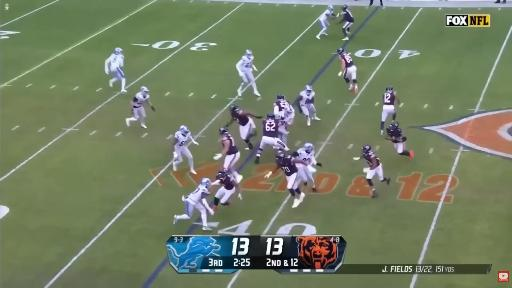Helmet: (216, 167, 227, 180), (390, 120, 401, 131), (178, 125, 189, 135), (304, 143, 314, 153), (139, 86, 150, 95), (277, 151, 286, 162), (202, 178, 211, 188), (218, 127, 230, 134), (245, 50, 254, 58), (363, 145, 371, 154), (306, 86, 315, 94), (230, 104, 238, 113), (384, 86, 394, 93), (337, 47, 346, 54), (283, 107, 292, 114), (276, 93, 285, 100), (114, 47, 122, 54), (327, 5, 334, 13), (342, 4, 348, 11), (267, 114, 275, 119)
Jersey: (185, 185, 209, 203), (279, 156, 297, 176), (222, 134, 238, 155), (236, 55, 254, 71), (263, 119, 278, 138), (231, 110, 249, 125), (216, 175, 234, 190), (107, 54, 123, 70), (363, 151, 380, 166), (297, 148, 314, 163), (274, 100, 290, 115), (133, 92, 149, 107), (339, 53, 354, 68), (175, 131, 190, 146), (392, 128, 406, 142), (300, 91, 314, 105), (284, 106, 294, 124), (383, 91, 395, 105), (387, 128, 398, 143), (319, 10, 334, 21), (343, 9, 354, 23)
Player: (265, 154, 306, 207), (174, 178, 214, 230), (255, 114, 289, 163), (226, 105, 262, 149), (214, 127, 242, 182), (362, 146, 390, 197), (296, 143, 322, 192), (173, 126, 198, 174), (126, 87, 155, 128), (236, 50, 260, 96), (213, 168, 237, 211), (337, 48, 358, 94), (386, 123, 413, 158), (105, 48, 126, 92), (381, 86, 399, 135), (299, 86, 319, 125), (316, 6, 336, 39), (279, 105, 294, 145), (341, 5, 354, 40), (274, 94, 292, 118)
